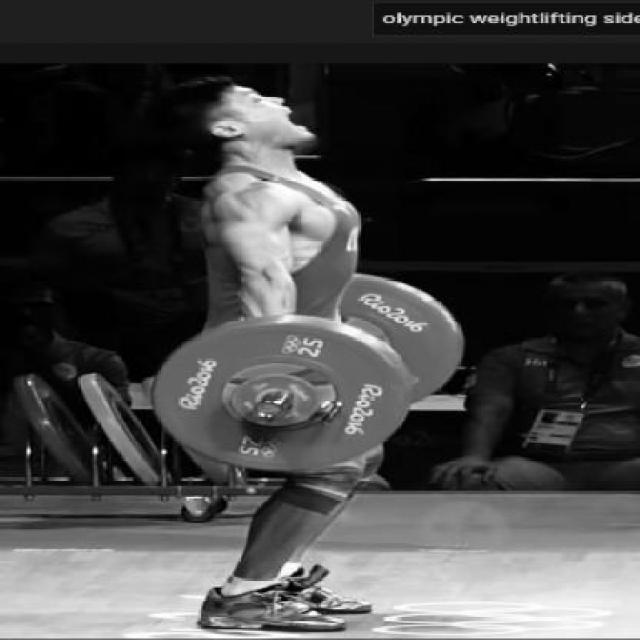Barbell: (242, 396, 300, 422)
